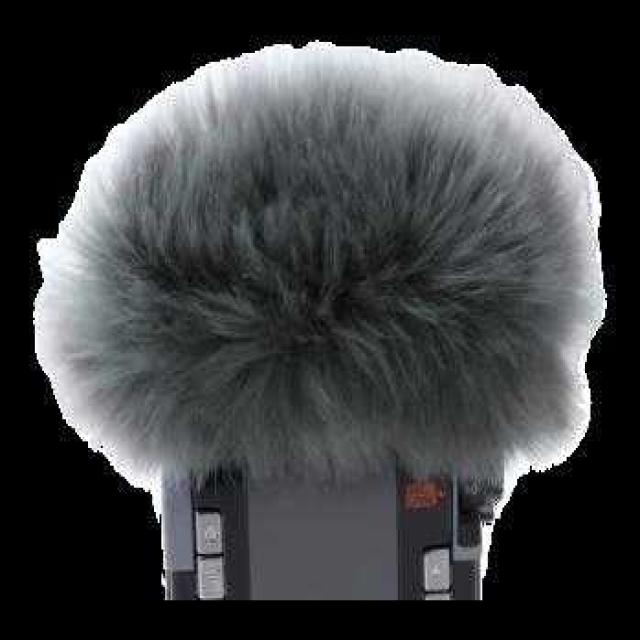microphone: (21, 50, 613, 562)
